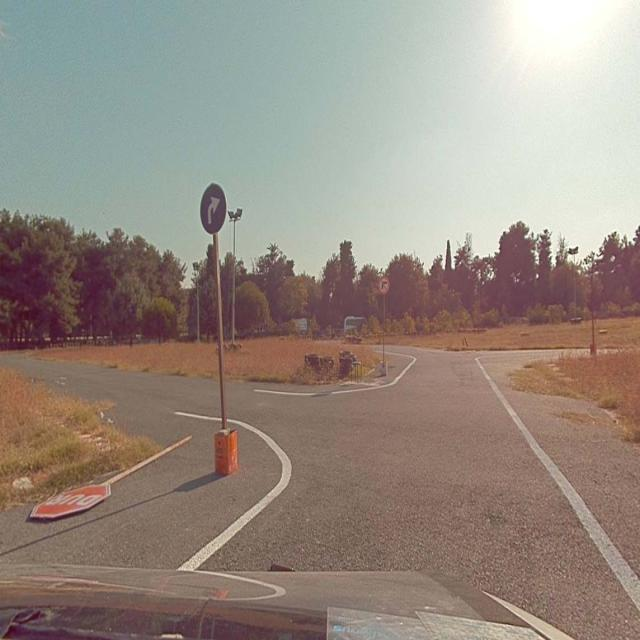sag: (200, 184, 226, 232)
sagadonulmez: (378, 276, 389, 294)
